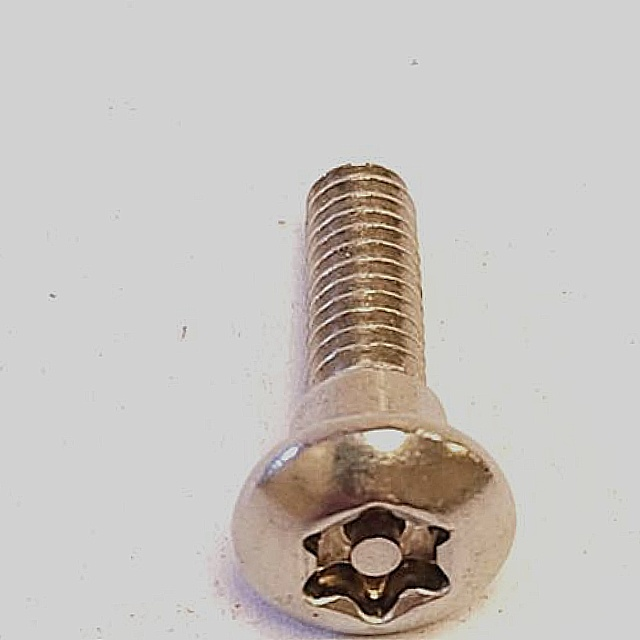torx: (225, 412, 522, 640)
